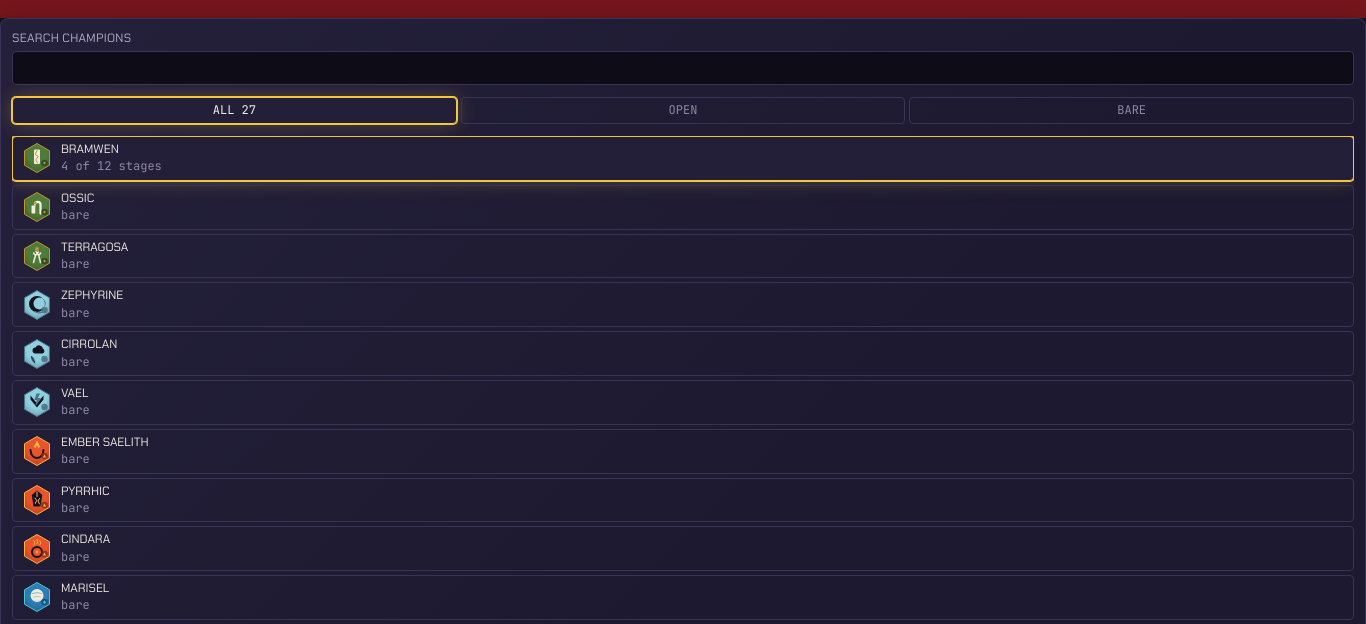
Scenario: the confirmation › shows what is lost as well as what is returned
The width and height of the screenshot is (1366, 624).
Expected: the radio button labelled "All 27" is shown, [12, 97, 457, 124]
Click the button "Bramwen 4 of 12 stages" at (37, 158), box [12, 136, 1354, 181]
(page scrolled)
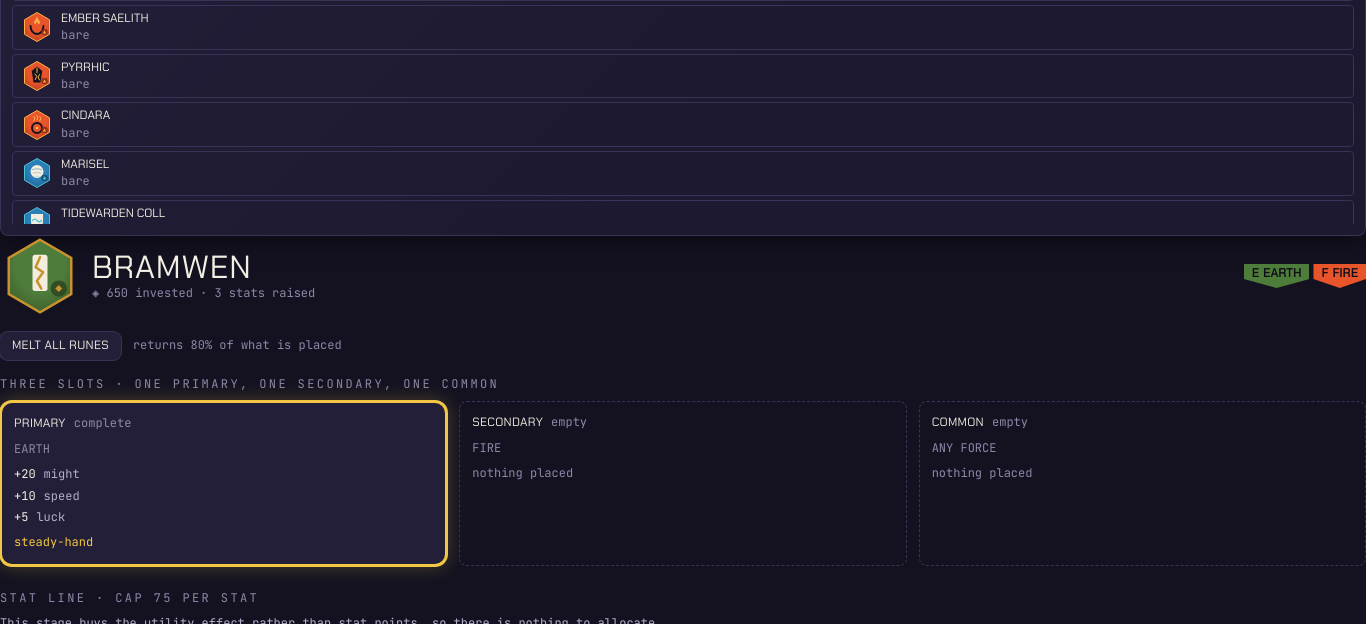
Click the button "Melt all runes" at (60, 346), box [0, 332, 121, 360]
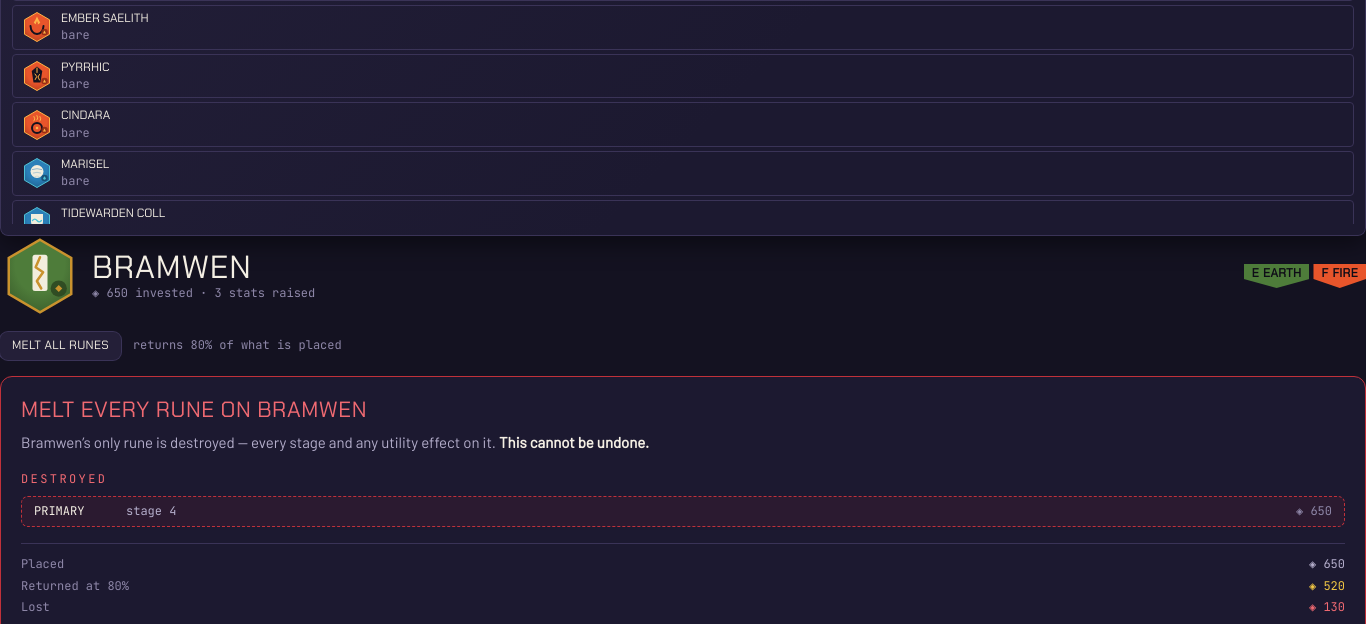
Result: the dialog shows "650" at [1310, 503, 1332, 519]
Result: the dialog shows "520" at [1323, 578, 1345, 594]
Result: the dialog shows "130" at [1323, 599, 1345, 615]
